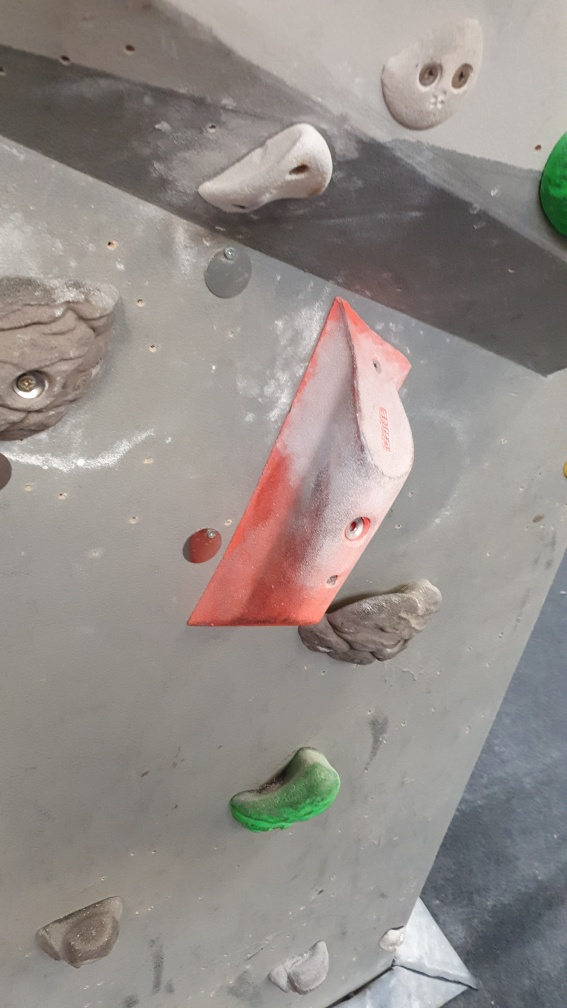Hand Start: (202, 243, 254, 300), (181, 525, 225, 565)
Jug: (299, 577, 446, 671), (227, 744, 342, 833)
Pinch: (184, 297, 420, 629)
